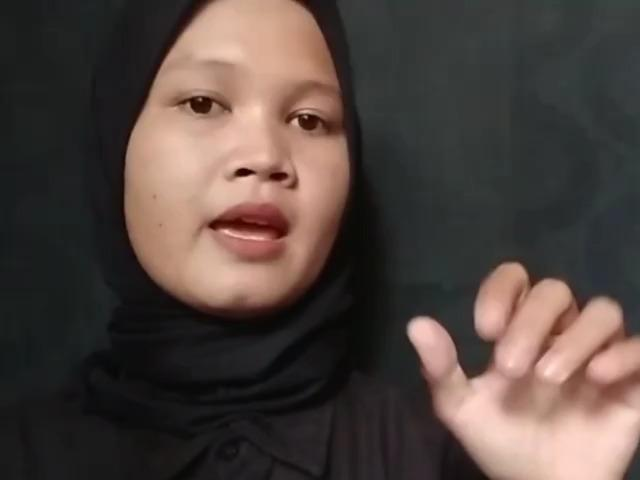S: (400, 256, 640, 480)
